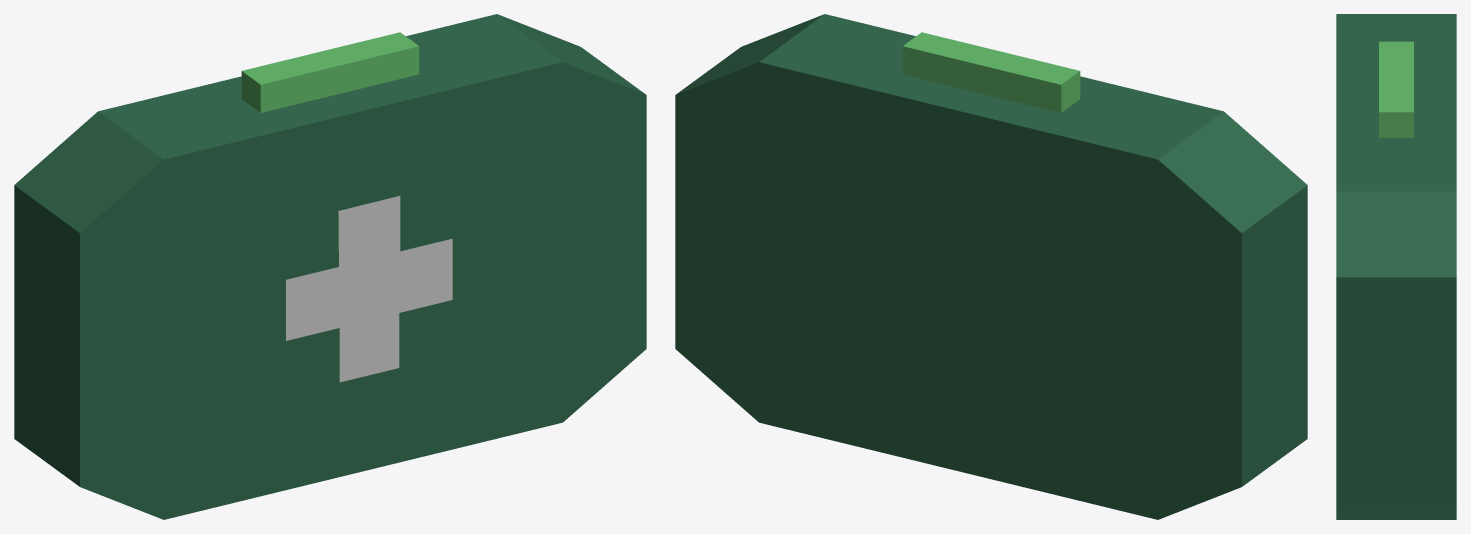
Rendered from Medikit.fbx.
3 views of the same model, side by side, from view 1: azimuth 30°, elevation 25°; view 2: azimuth 150°, elevation 25°; view 3: azimuth 270°, elevation 25° (orthographic). The views are drawn at different scales.
Parts seen in each view (by area): view 1: Medikit; view 2: Medikit; view 3: Medikit.
Part boxes in pixels (x1,y1,x2,y2): Medikit: [14, 14, 646, 519]; Medikit: [675, 14, 1307, 519]; Medikit: [1336, 14, 1456, 519].
Bounding box in the file's own units: 33.92 × 22.23 × 6.83.
